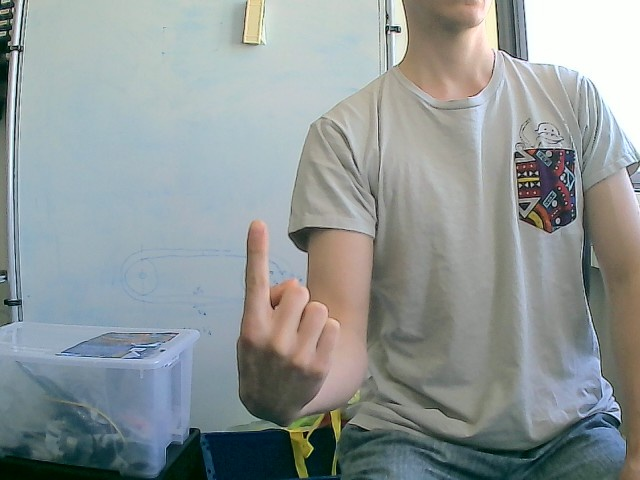up: (235, 218, 342, 427)
